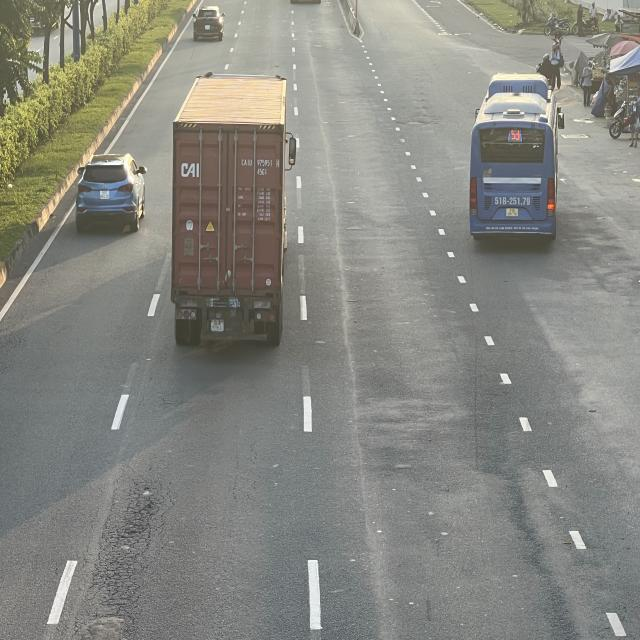car: (74, 156, 146, 236), (193, 5, 227, 41)
coach: (469, 72, 560, 241)
container: (175, 72, 302, 348)
